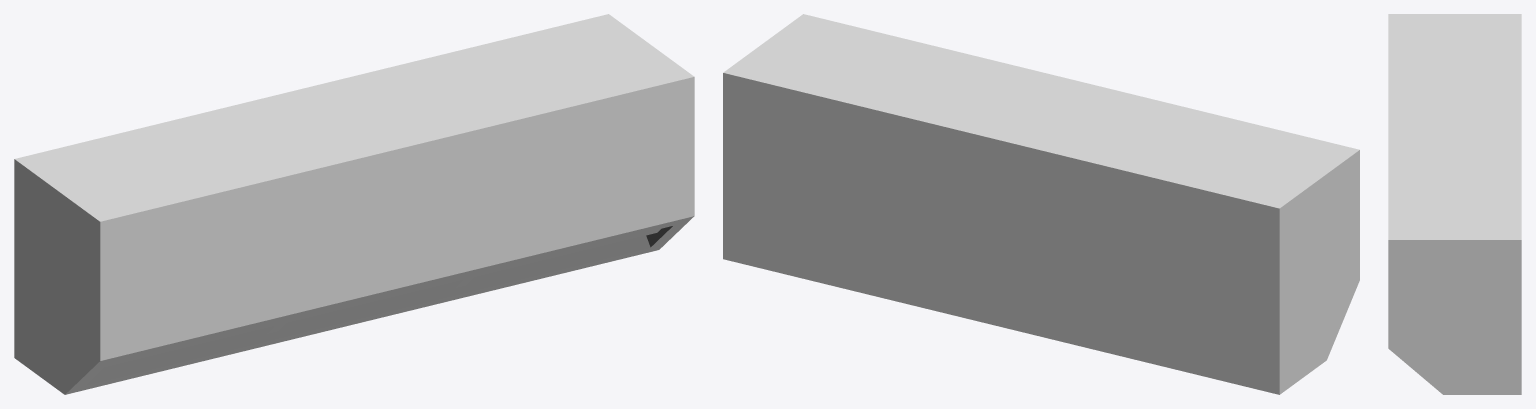
The picture shows the model from 3 angles, left to right: view 1: azimuth 30°, elevation 25°; view 2: azimuth 150°, elevation 25°; view 3: azimuth 270°, elevation 25°; orthographic projection. The views are drawn at different scales.
Parts seen in each view (by area): view 1: AC; view 2: AC; view 3: AC.
Boxes of the visible parts, x1,y1,x2,y2 form: AC: (14,14,694,394); AC: (723,14,1359,394); AC: (1388,14,1521,394).
Size of the model in its own units: 1 by 0.32 by 0.25.
